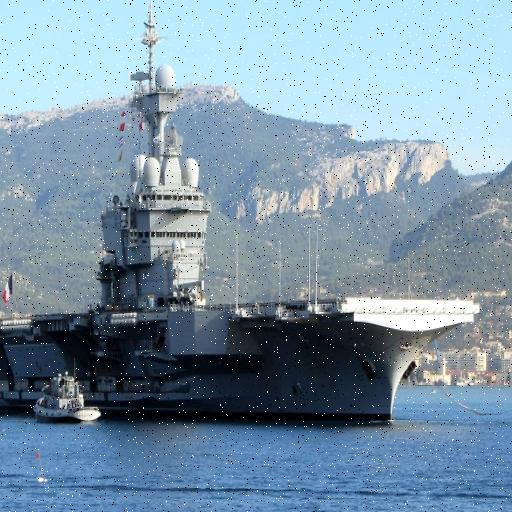Portanaves: (1, 1, 482, 427)
